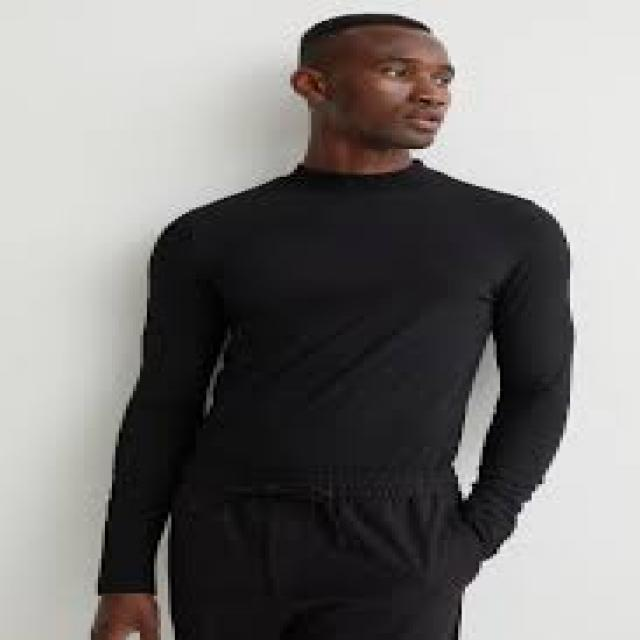plain: (115, 157, 578, 508)
